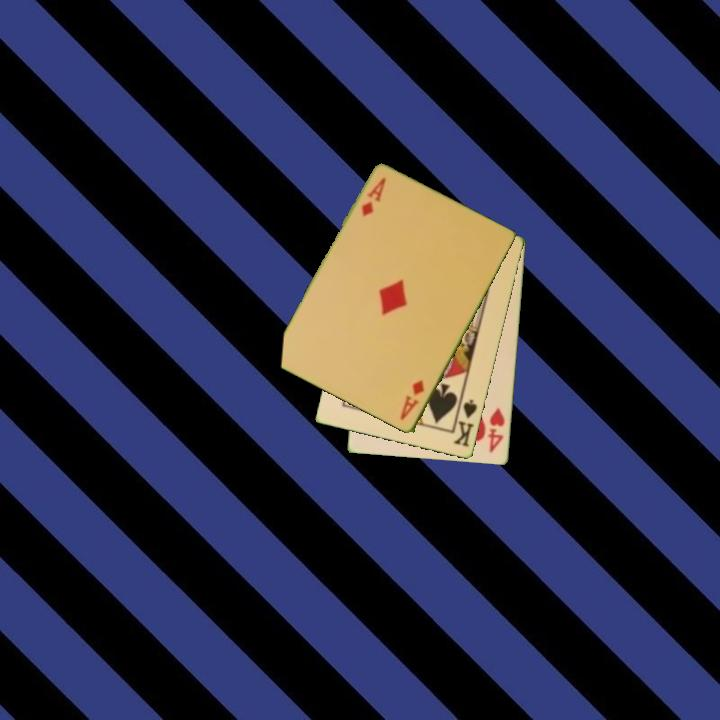4h: (485, 405, 508, 456)
Ad: (396, 377, 427, 423), (358, 174, 389, 219)
Ks: (450, 393, 480, 450)
